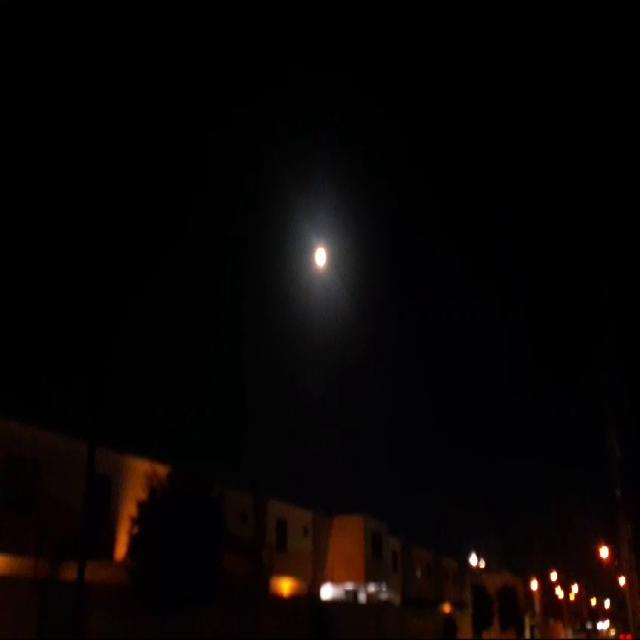moon: (312, 242, 329, 276)
